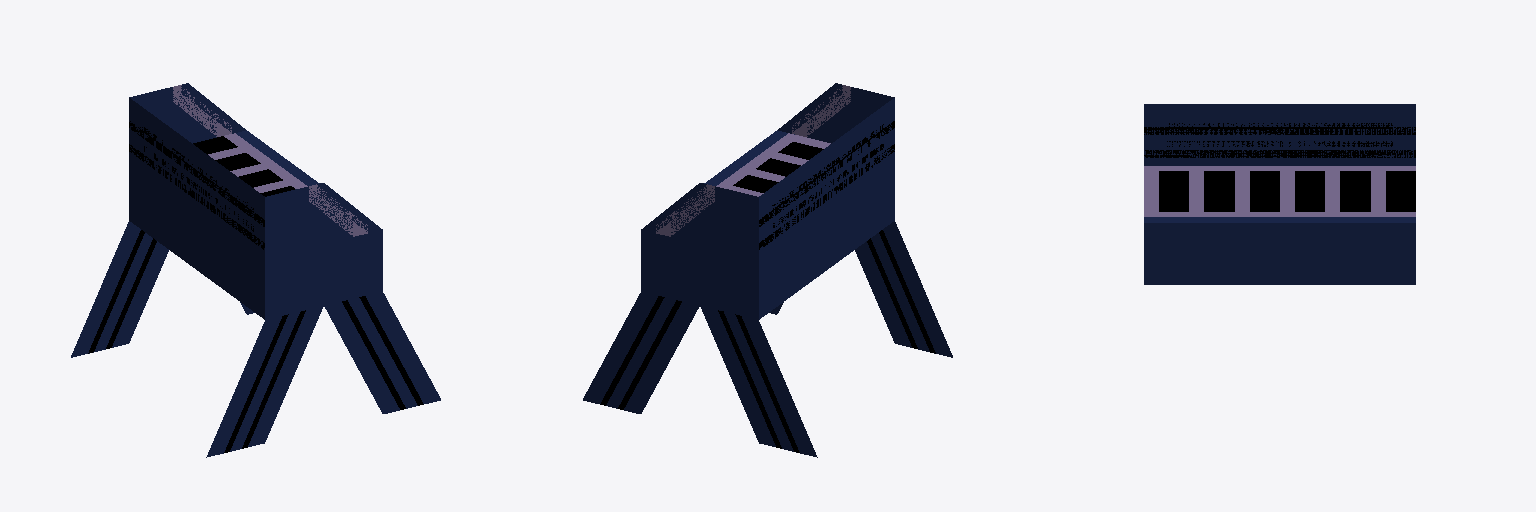
The picture shows the model from 3 angles: view 1: azimuth 30°, elevation 25°; view 2: azimuth 150°, elevation 25°; view 3: azimuth 270°, elevation 25°; orthographic projection.
Parts seen in each view (by area): view 1: grill; view 2: grill; view 3: grill.
Part boxes in pixels (bbox=[...]): grill: bbox=[71, 83, 440, 457]; grill: bbox=[583, 83, 952, 457]; grill: bbox=[1144, 104, 1415, 284].
Size of the model in its own units: 1 by 1 by 1.
1 materials, 1 textured.